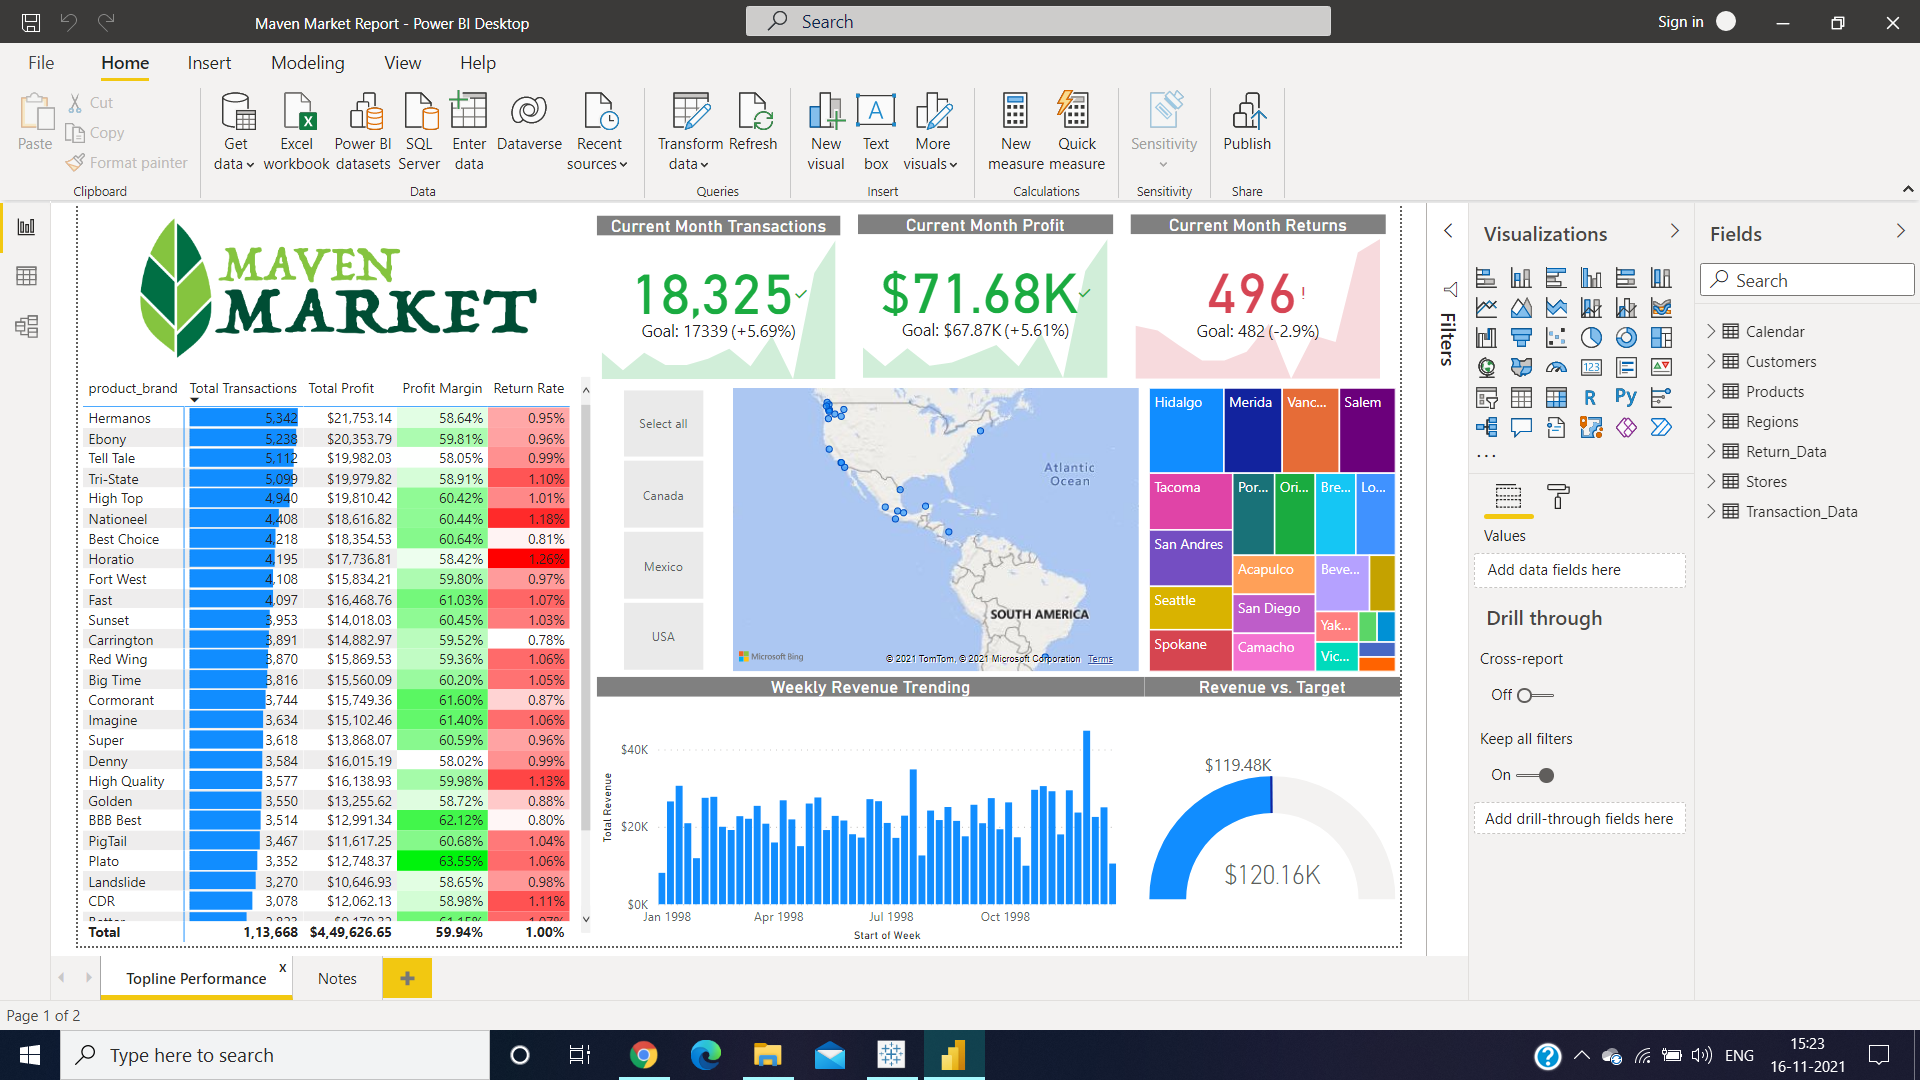

What the dashboard file says about the page in this screenshot:
{"tool":"powerbi","page":{"name":"Topline Performance","canvas":[1280,720],"ordinal":0},"visuals":[{"type":"image","box":[0,0,501,163.4],"z":0},{"type":"pivotTable","fields":{"Rows":["Products.product_brand"],"Values":["Transaction_Data.Total Transactions","Transaction_Data.Total Profit","Transaction_Data.Profit Margin","Return_Data.Return Rate"]},"box":[0,163.4,501,556.6],"z":1000},{"type":"kpi","title":"Current Month Transactions","fields":{"Indicator":["Transaction_Data.Total Transactions"],"TrendLine":["Calendar.Start of Month"],"Goal":["Transaction_Data.Last Month Transactions"]},"box":[502.2,12.1,236,163.4],"z":2000},{"type":"kpi","title":"Current Month Profit","fields":{"TrendLine":["Calendar.Start of Month"],"Indicator":["Transaction_Data.Total Profit"],"Goal":["Transaction_Data.Last Month Profit"]},"box":[755.1,10.9,246.9,163.4],"z":3000},{"type":"kpi","title":"Current Month Returns","fields":{"TrendLine":["Calendar.Start of Month"],"Indicator":["Return_Data.Total Returns"],"Goal":["Return_Data.Last Month Returns"]},"box":[1018.9,10.9,246.9,164.6],"z":4000},{"type":"map","fields":{"Category":["Stores.store_city"]},"box":[629.2,174.3,403,284.4],"z":5000},{"type":"slicer","fields":{"Values":["Stores.store_country"]},"box":[502.2,174.3,127.1,284.4],"z":6000},{"type":"treemap","fields":{"Values":["Transaction_Data.Total Transactions"],"Group":["Stores.store_country","Stores.store_state","Stores.store_city"]},"box":[1032.2,174.3,248.1,284.4],"z":7000},{"type":"columnChart","title":"Weekly Revenue Trending","fields":{"Y":["Transaction_Data.Total Revenue"],"Category":["Calendar.Start of Week"]},"box":[502.2,458.6,530,261.4],"z":8000},{"type":"gauge","title":"Revenue vs. Target","fields":{"Y":["Transaction_Data.Total Revenue"],"TargetValue":["Transaction_Data.Revenue Target"]},"box":[1032,459,248,261],"z":9000}]}

Visuals, with their boxes on the page's 1280x720 design canvas (x1, y1, x2, y2). These are canvas units, not pixel positions in the 1920x1080 screenshot, which may show the page scaled, cropped or inside an application window:
image: 0:0:501:163
pivotTable - Products.product_brand x Transaction_Data.Total Transactions: 0:163:501:720
"Current Month Transactions" kpi: 502:12:738:176
"Current Month Profit" kpi: 755:11:1002:174
"Current Month Returns" kpi: 1019:11:1266:176
map - Stores.store_city: 629:174:1032:459
slicer - Stores.store_country: 502:174:629:459
treemap - Transaction_Data.Total Transactions x Stores.store_country: 1032:174:1280:459
"Weekly Revenue Trending" columnChart: 502:459:1032:720
"Revenue vs. Target" gauge: 1032:459:1280:720
